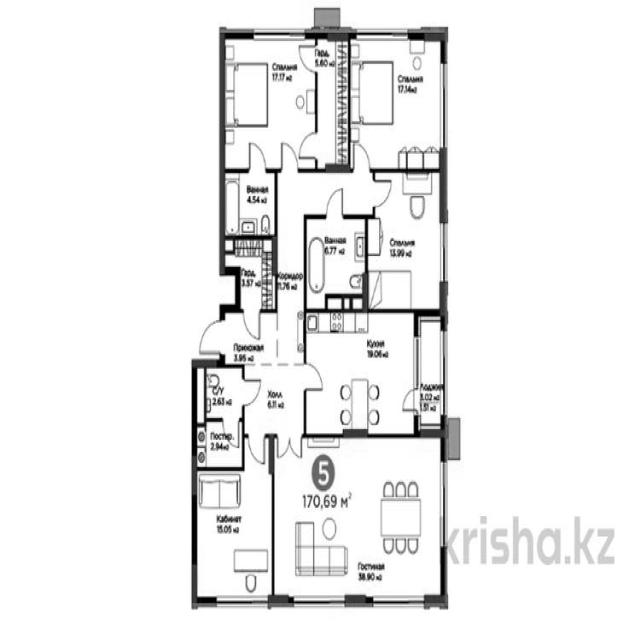balcony: (414, 316, 444, 433)
bathroom: (306, 218, 367, 306), (224, 174, 276, 235), (196, 368, 246, 420), (195, 420, 242, 470)
hallway: (277, 172, 302, 360), (247, 367, 304, 433), (224, 316, 276, 363)
kitchen: (306, 314, 412, 433)
living_room: (273, 438, 443, 602), (350, 36, 442, 168), (225, 36, 316, 168), (194, 469, 270, 599), (369, 175, 441, 308)
other: (316, 36, 350, 166), (222, 239, 276, 308)
